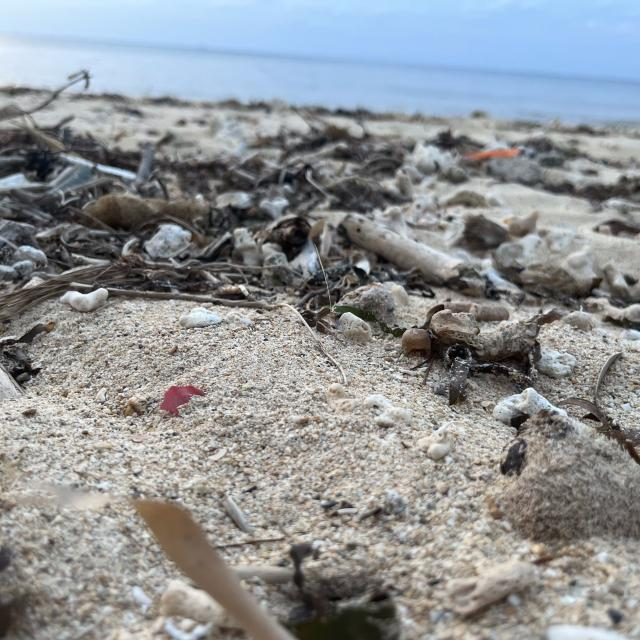seaweed: (0, 115, 412, 312)
stick: (333, 209, 478, 293)
trash: (454, 128, 528, 179), (149, 376, 211, 420)
